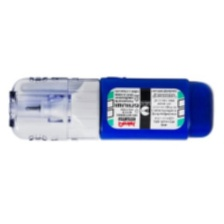correction_fluid: (5, 74, 217, 143)
